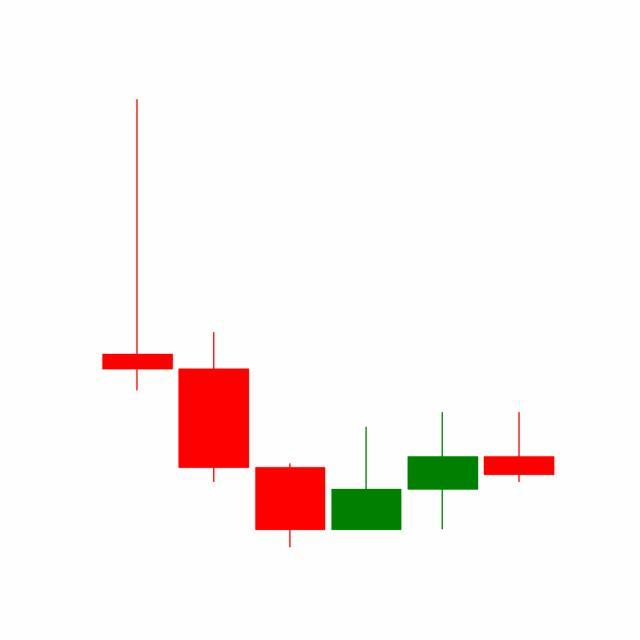Spinning Top: (404, 411, 482, 531)
